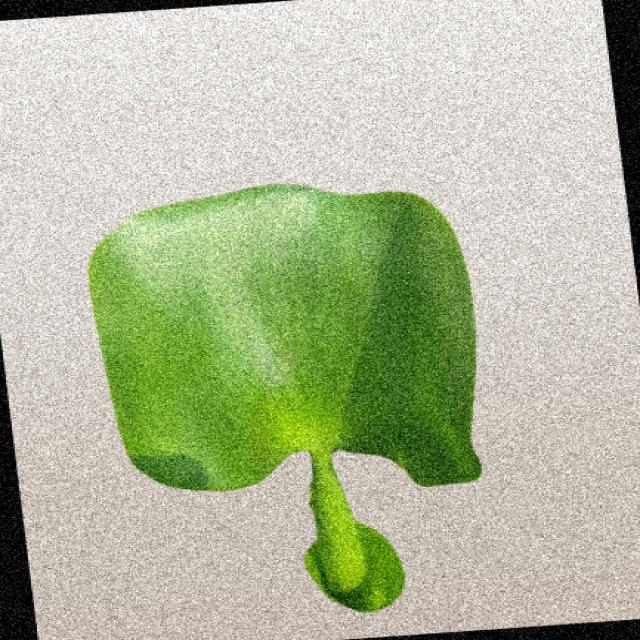daun sehat: (90, 185, 481, 612)
